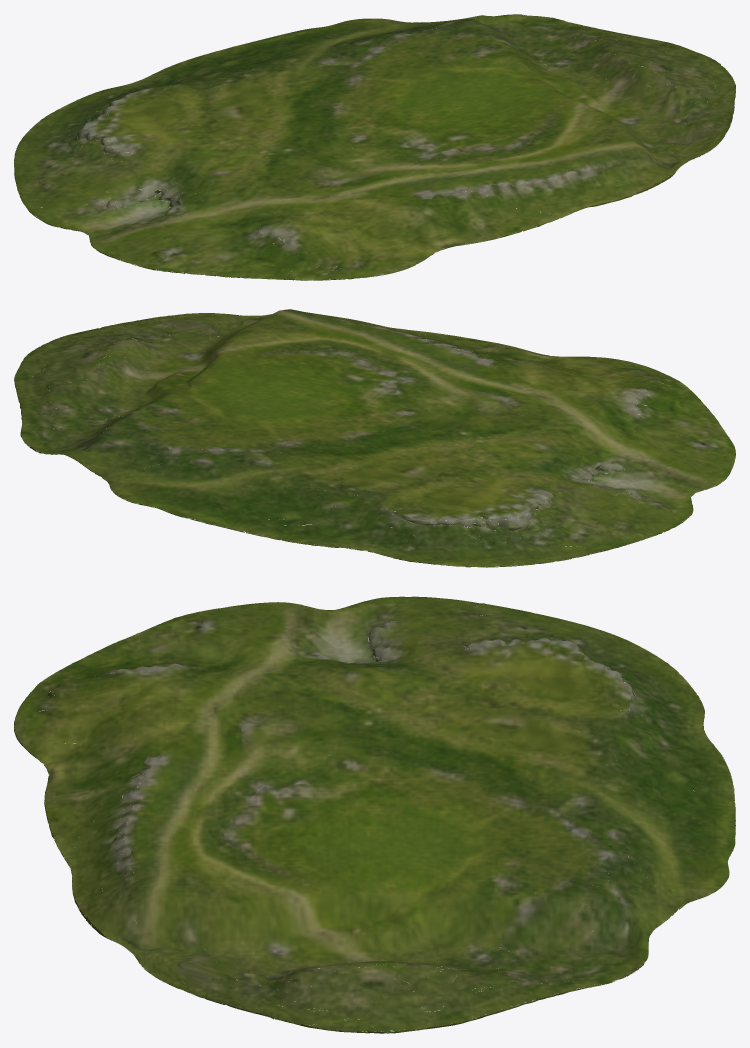
The picture shows the model from 3 angles, top to bottom: view 1: azimuth 30°, elevation 25°; view 2: azimuth 150°, elevation 25°; view 3: azimuth 270°, elevation 25°; orthographic projection. The views are drawn at different scales.
Visible parts, largest first — view 1: Mesh_0; view 2: Mesh_0; view 3: Mesh_0.
Part boxes in pixels (x1,y1,x2,y2): Mesh_0: (14,14,735,280); Mesh_0: (14,309,735,567); Mesh_0: (14,596,735,1033).
Size of the model in its own units: 270 by 9.57 by 190.
1 material, 1 textured.
